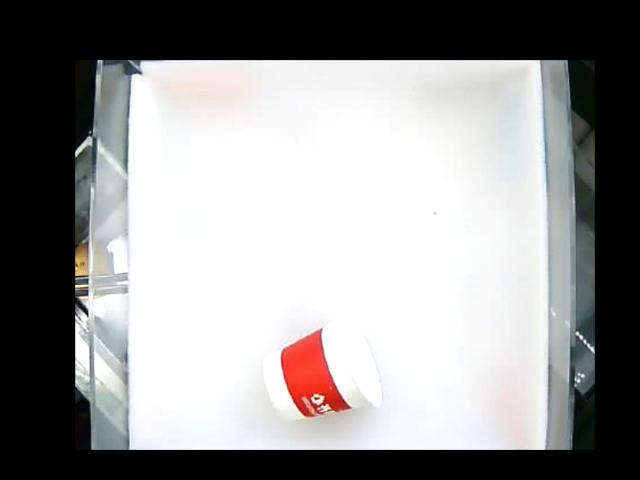Cup: (268, 312, 382, 420)
